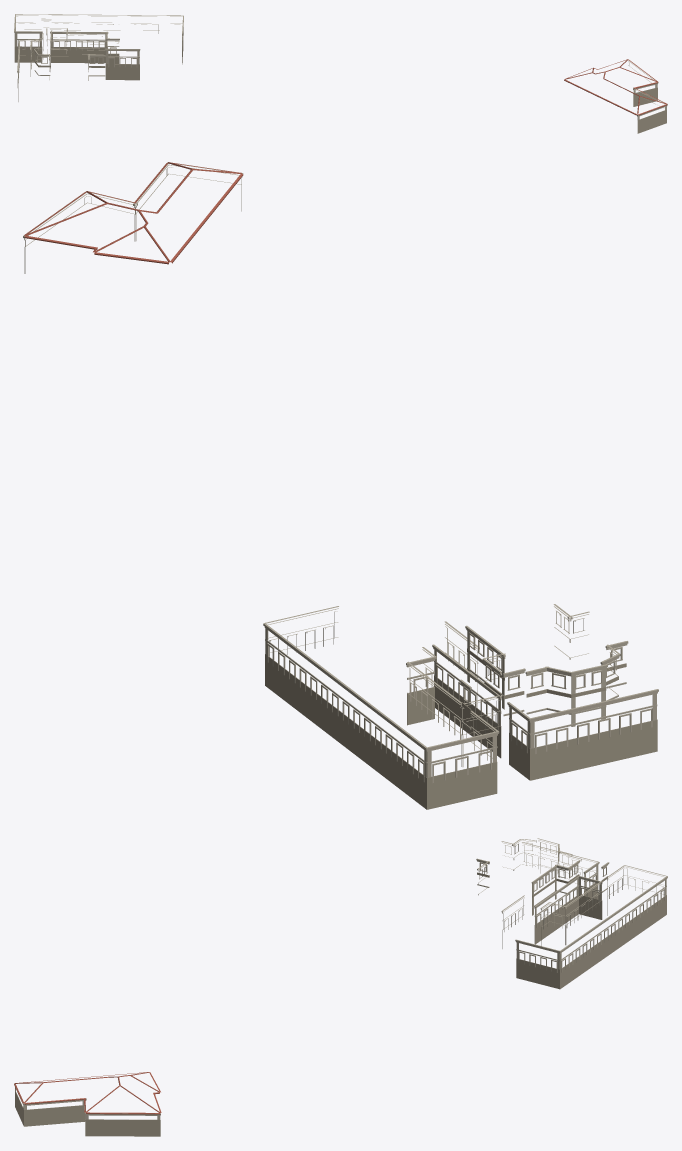
3 views of the same model, one above another, from view 1: azimuth 30°, elevation 25°; view 2: azimuth 150°, elevation 25°; view 3: azimuth 270°, elevation 25° (orthographic). The views are drawn at different scales.
Parts seen in each view (by area): view 1: detail; view 2: detail; view 3: detail.
Part boxes in pixels (box(x1,y1,x2,y2)): detail: box(14, 14, 667, 133); detail: box(23, 162, 658, 809); detail: box(14, 838, 667, 1136).
Bounding box in the file's own units: 140 × 13.8 × 138.
